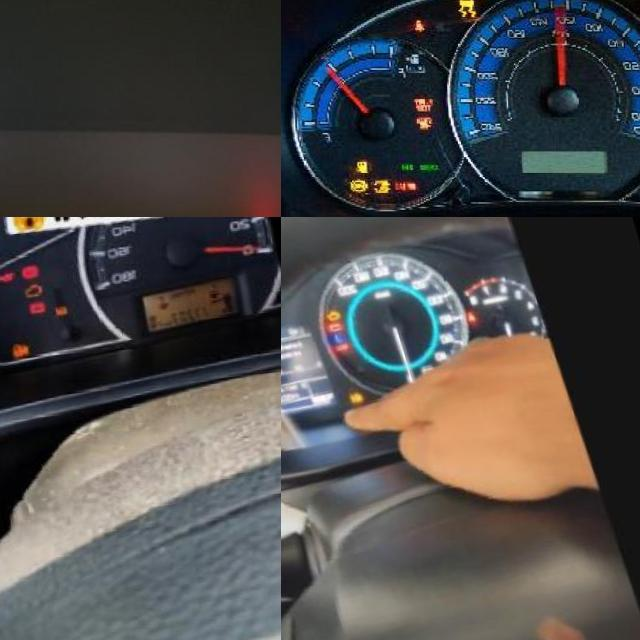Engine cooling system: (329, 334, 338, 344)
Seat Belt: (411, 18, 422, 32)
